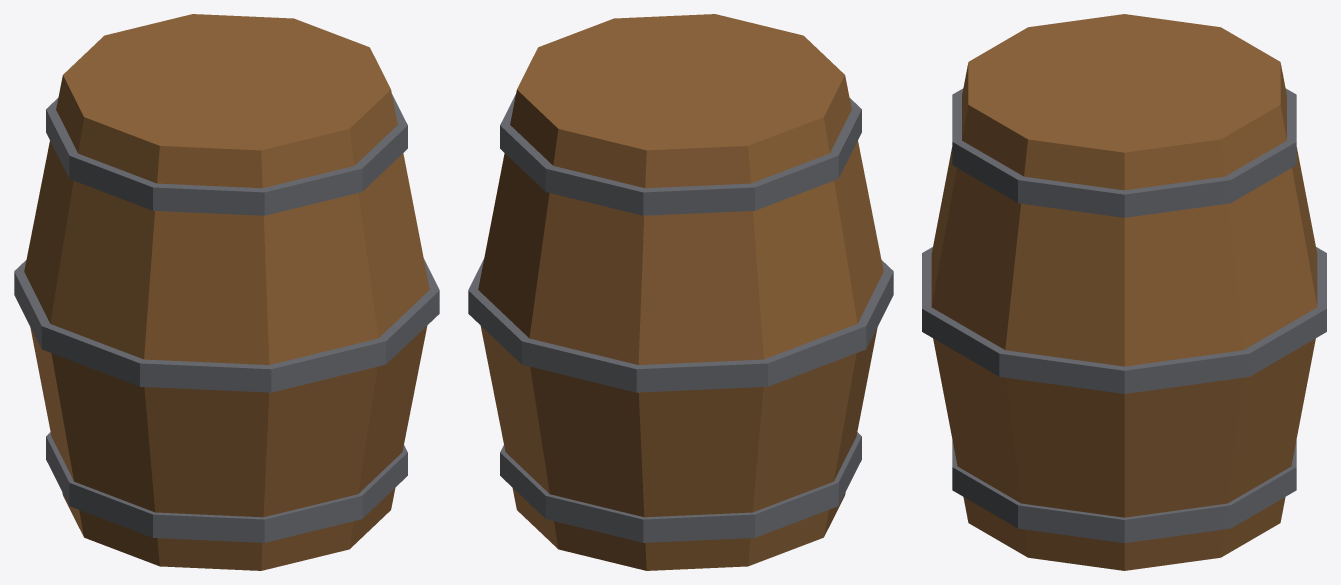
The model's file is barrel.glb.
3 renders of one model, left to right at view 1: azimuth 30°, elevation 25°; view 2: azimuth 150°, elevation 25°; view 3: azimuth 270°, elevation 25°, orthographic.
Visible parts, largest first — view 1: wood-col, metal; view 2: wood-col, metal; view 3: wood-col, metal.
Boxes of the visible parts, <box> form: wood-col: <box>24,14,429,570</box>; metal: <box>14,94,439,542</box>; wood-col: <box>478,14,883,570</box>; metal: <box>468,94,893,542</box>; wood-col: <box>931,14,1317,570</box>; metal: <box>922,88,1326,543</box>.
Bounding box in the file's own units: 0.83 × 0.9 × 0.7894.
